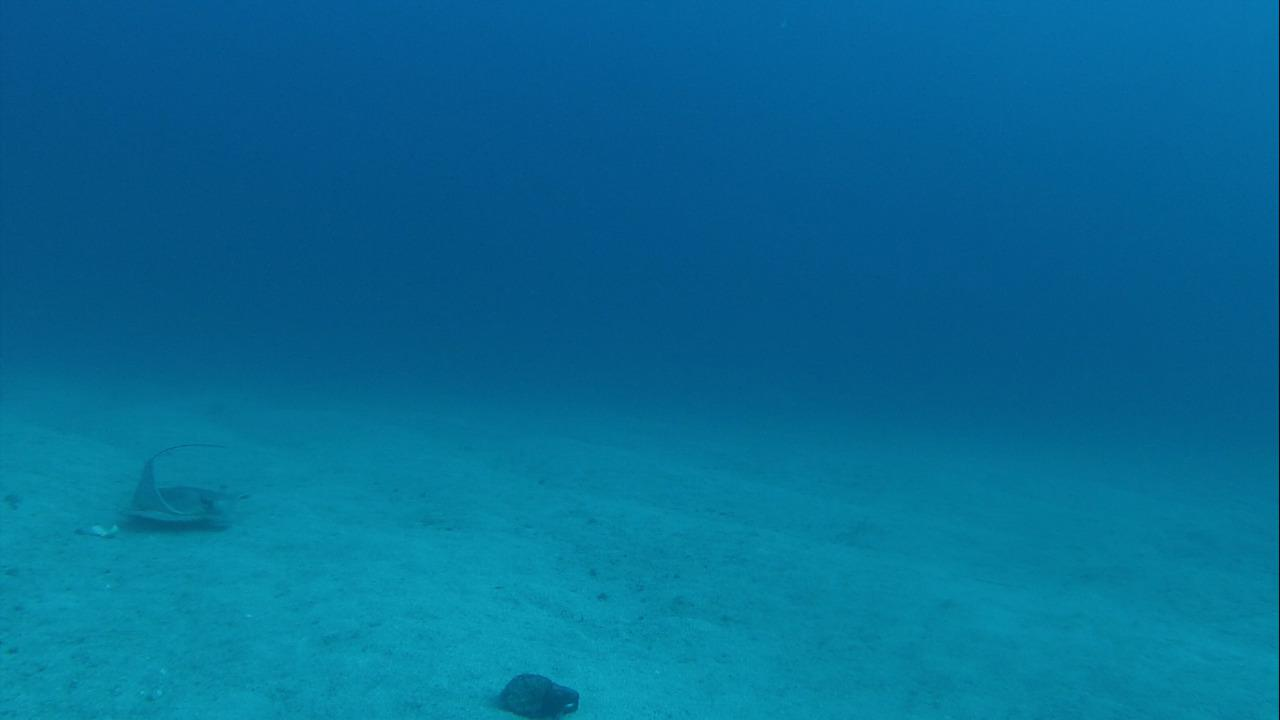myliobatis: (123, 434, 265, 529)
